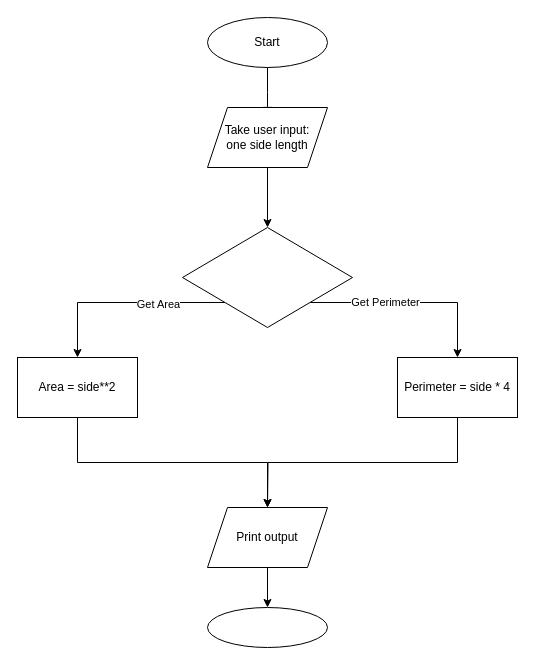
Image size: 535x665. Some labels were removed from this diagram. Here are the shapes that lost their labels. From the top down, the centre of each, then its label:
At [267,277]: "Get Area or Get Perimeter".
At [267,627]: "Stop".
